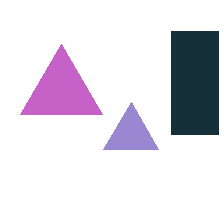rectangle: (171, 31, 218, 134)
triangle: (20, 44, 102, 114), (103, 102, 158, 149)
